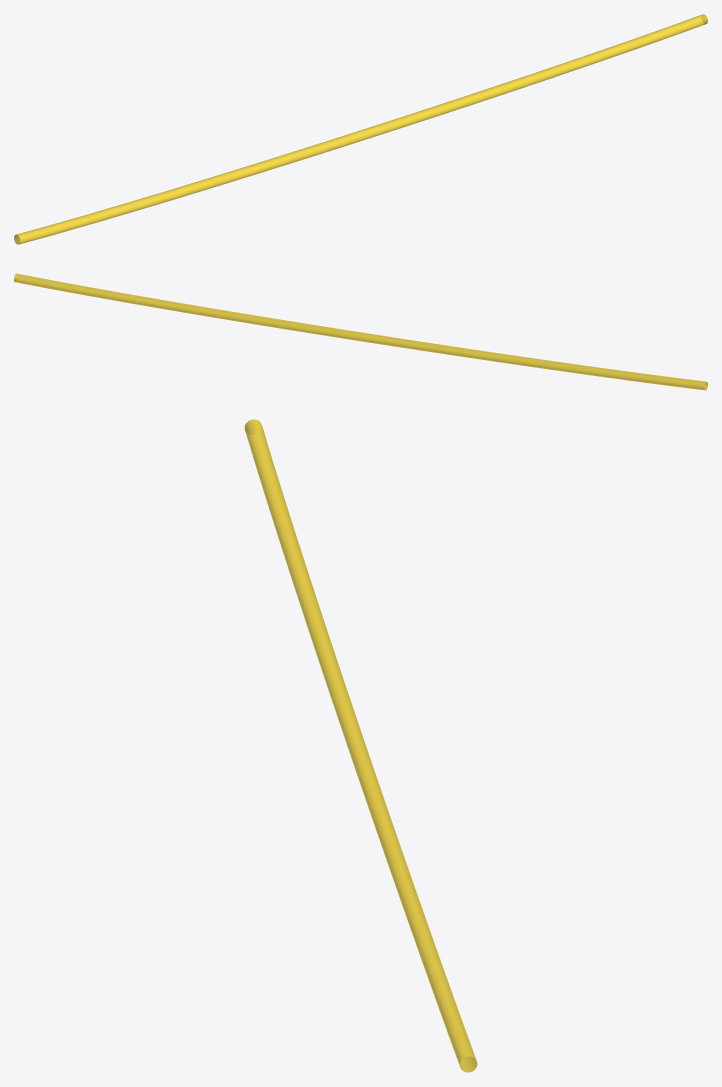
The model's file is Event_17758602_track_80.fbx.
3 renders of one model, top to bottom at view 1: azimuth 30°, elevation 25°; view 2: azimuth 150°, elevation 25°; view 3: azimuth 270°, elevation 25°, orthographic. The views are drawn at different scales.
Parts seen in each view (by area): view 1: Model; view 2: Model; view 3: Model.
Part boxes in pixels (bbox=[...]): Model: bbox=[14, 14, 707, 244]; Model: bbox=[14, 273, 707, 390]; Model: bbox=[244, 419, 477, 1072].
Bounding box in the file's own units: 3.31 × 0.0888 × 0.5226.
